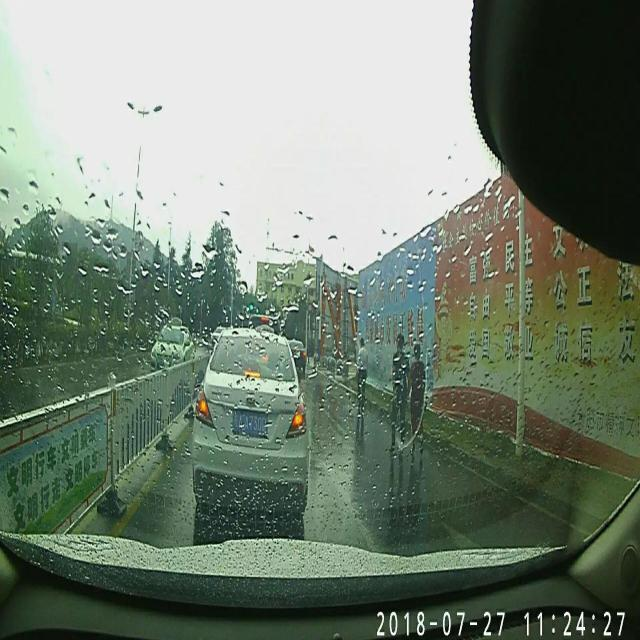car: (190, 324, 310, 526), (148, 320, 196, 374)
